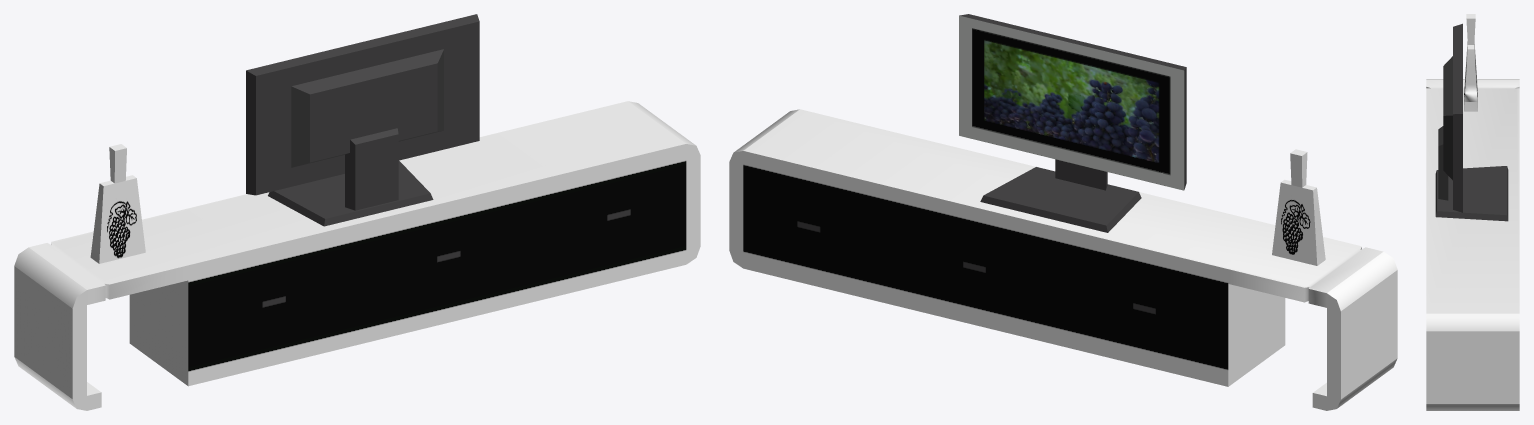
3 renders of one model, left to right at view 1: azimuth 30°, elevation 25°; view 2: azimuth 150°, elevation 25°; view 3: azimuth 270°, elevation 25°, orthographic. The views are drawn at different scales.
Visible parts, largest first — view 1: 对象001, Box001, Surface002; view 2: 对象001, Box001, Surface002; view 3: 对象001, Box001, Surface002.
Boxes of the visible parts, box(x1,y1,x2,y2) form: 对象001: box(14, 101, 700, 410); Box001: box(246, 14, 479, 226); Surface002: box(90, 144, 145, 263); 对象001: box(729, 109, 1397, 410); Box001: box(959, 14, 1186, 232); Surface002: box(1272, 149, 1325, 265); 对象001: box(1426, 79, 1519, 410); Box001: box(1435, 23, 1508, 221); Surface002: box(1464, 14, 1477, 111).
Size of what is drawn, in the model's own units: 435 by 185 by 70.
Materials: 3 (3 with a texture image).
